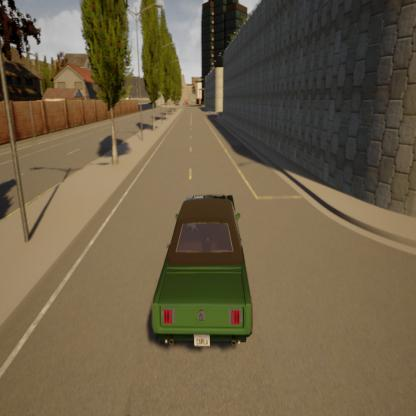Cars: (149, 174, 265, 360)
